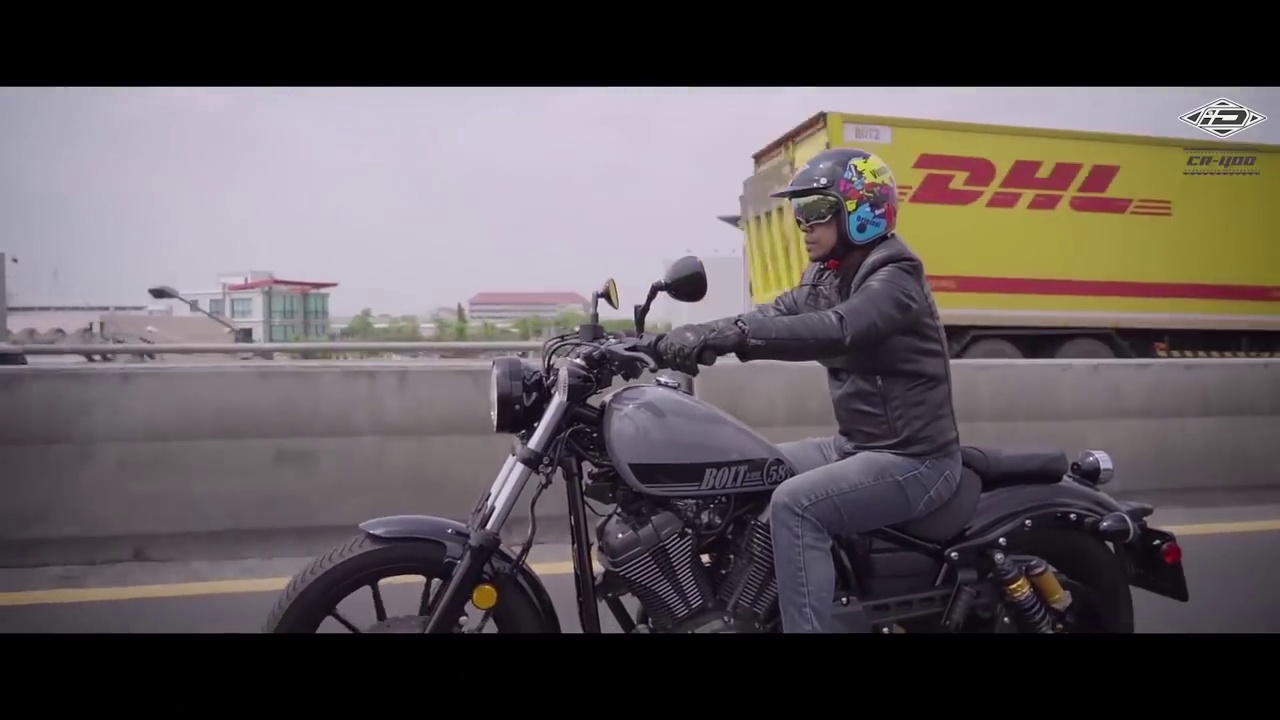helmet: (784, 152, 897, 249)
